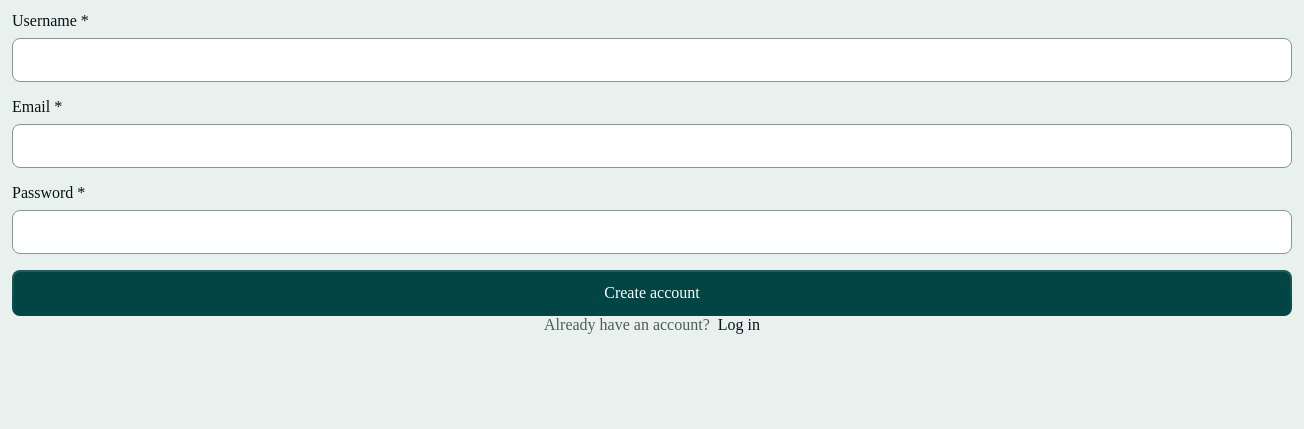
Sign up flow › shows validation errors for invalid inputs
Type "invalid email" into the field labelled "Email *" at (652, 146), box [12, 124, 1292, 168]
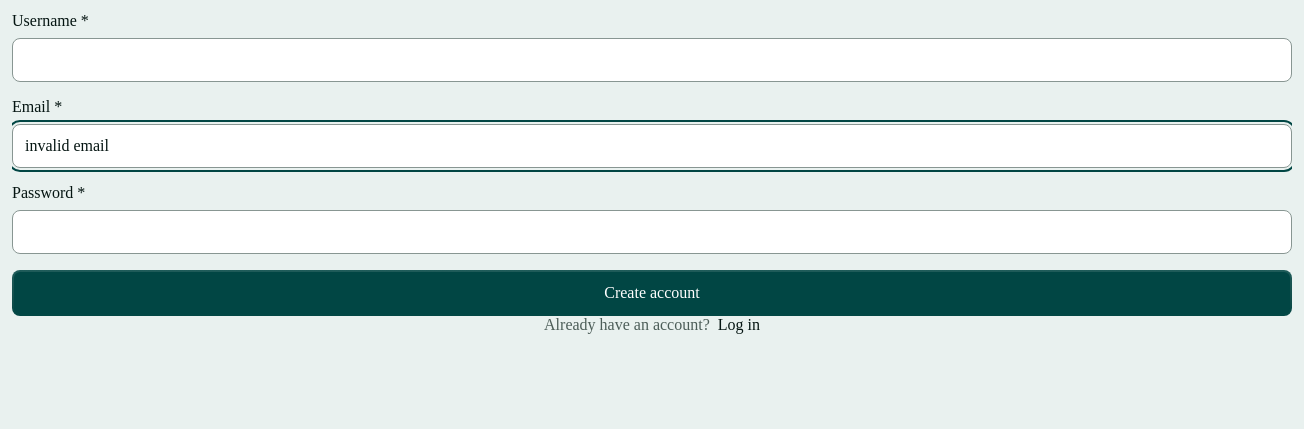
Type "invalid-password" into the password field labelled "Password *" at (652, 232), box [12, 210, 1292, 254]
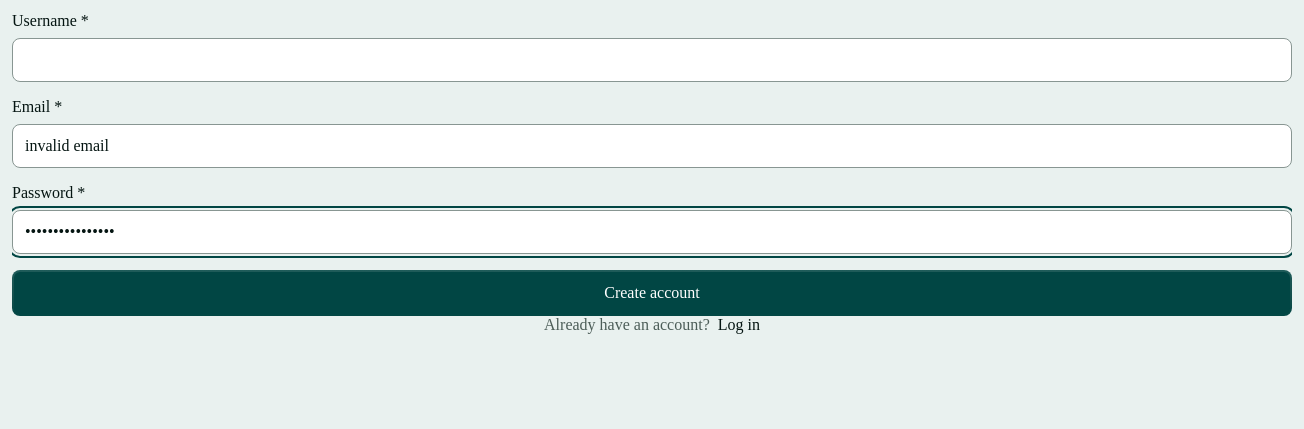
Click the button "Create account" at (652, 293), box [12, 270, 1292, 316]
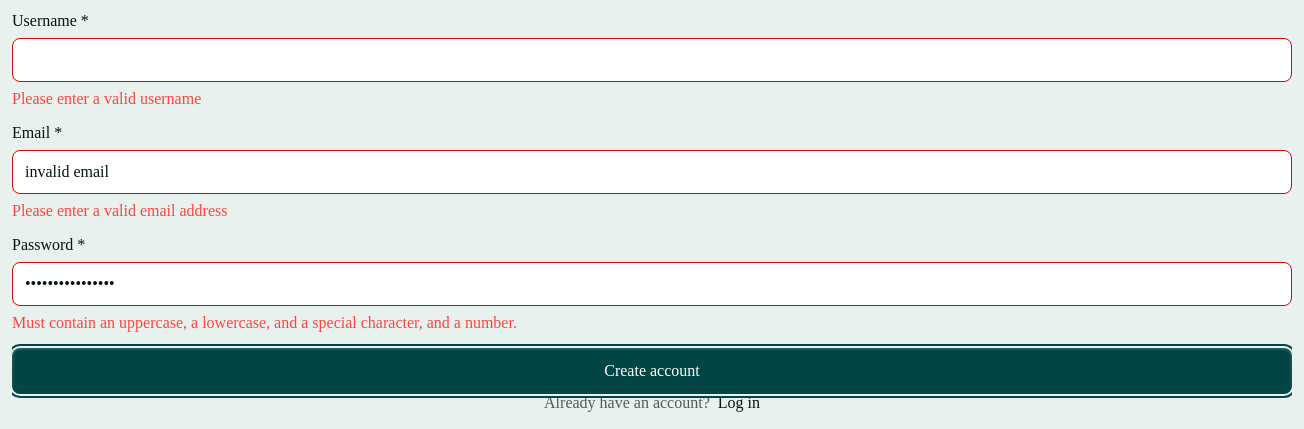
Expected: the text "Please enter a valid username" is shown, [12, 90, 201, 107]
Expected: the text "Please enter a valid email address" is shown, [12, 202, 228, 219]
Expected: the text "Must contain an uppercase, a lowercase, and a special character, and a number." is shown, [12, 314, 517, 331]
